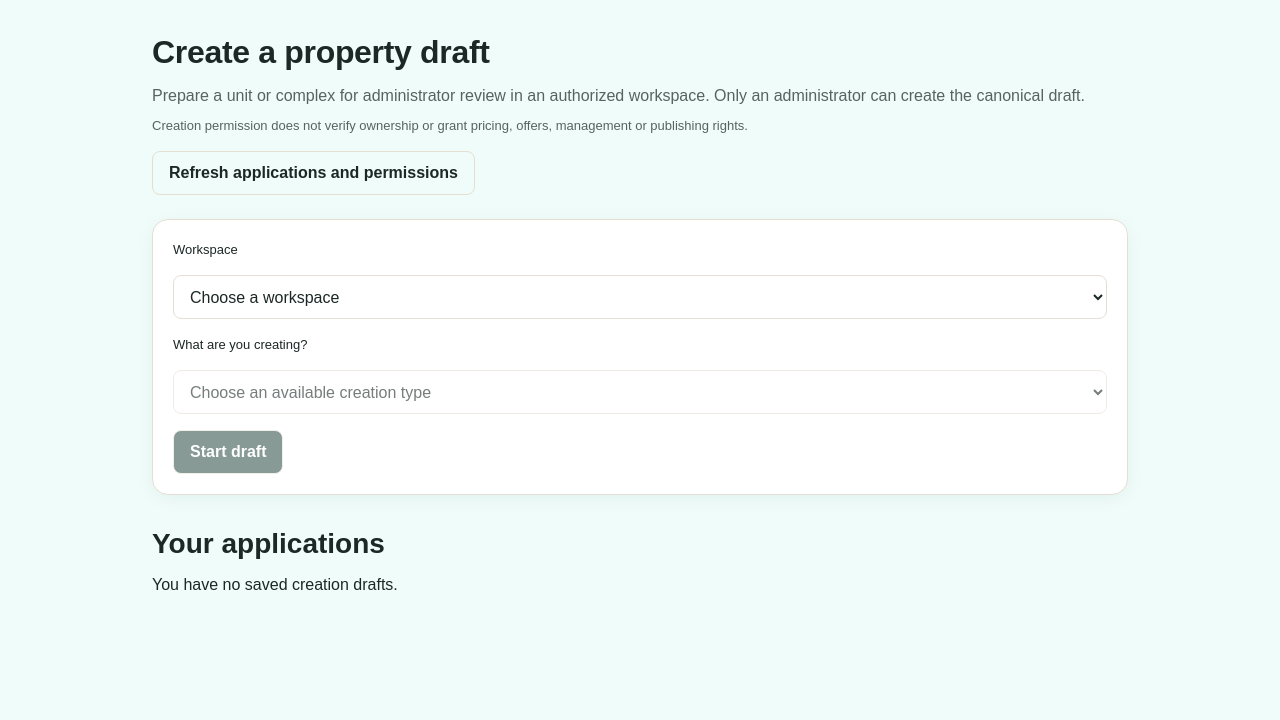
Test: employee creation editor › recovers an ambiguous initial save by exact request receipt without posting again
Select "Employee workspace" in the dropdown labelled "Workspace": (640, 297) x1=173 y1=275 x2=1107 y2=319
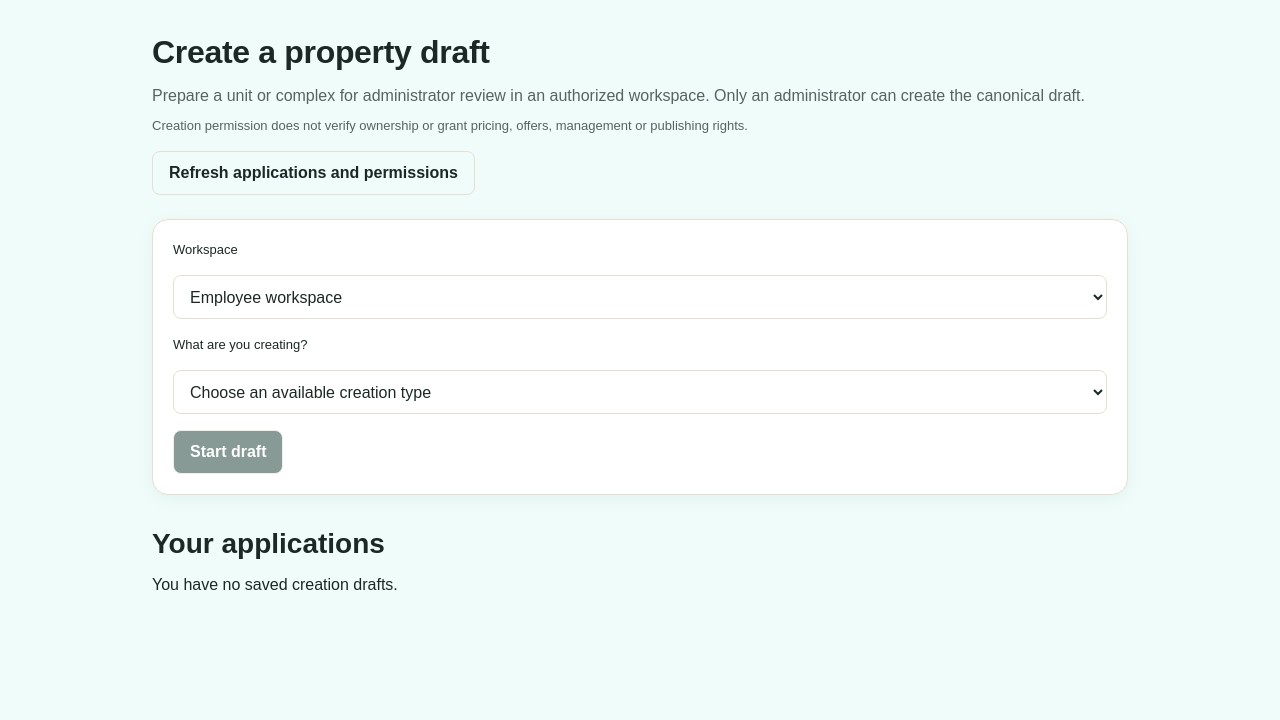
Select "Unit" in the dropdown labelled "What are you creating?": (640, 392) x1=173 y1=370 x2=1107 y2=414
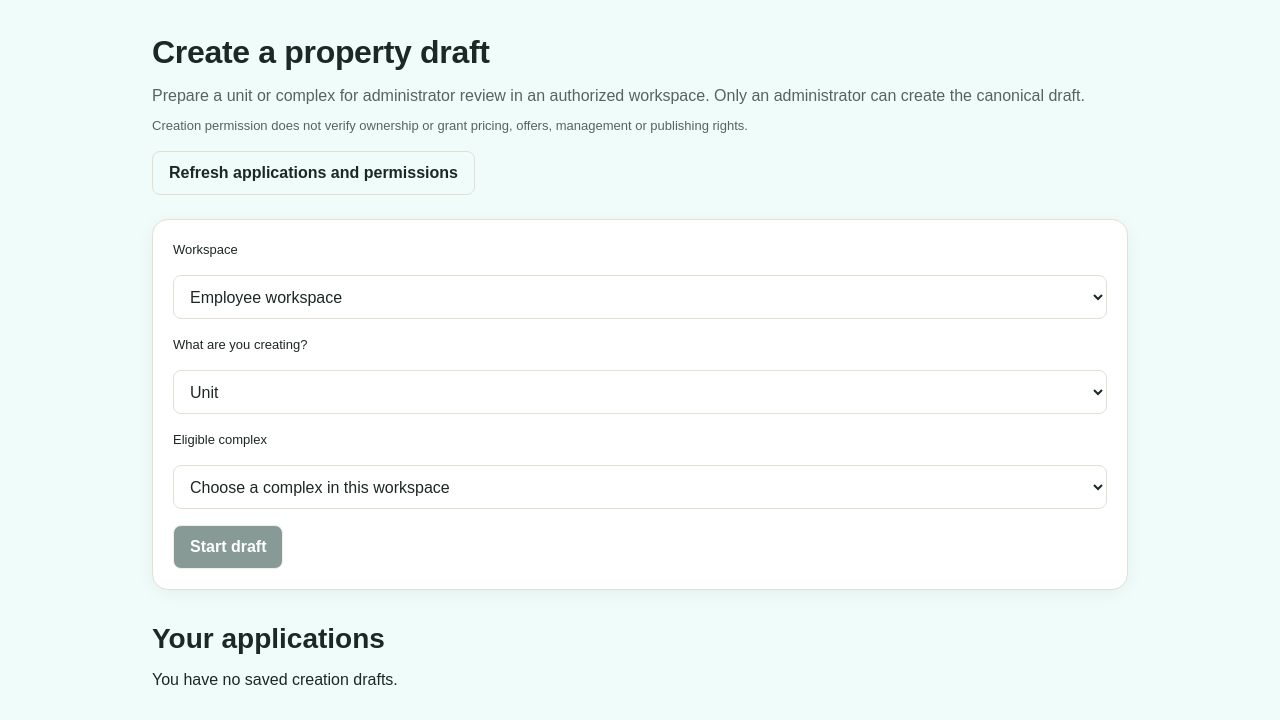
Select "Authorized complex" in the dropdown labelled "Eligible complex": (640, 487) x1=173 y1=465 x2=1107 y2=509
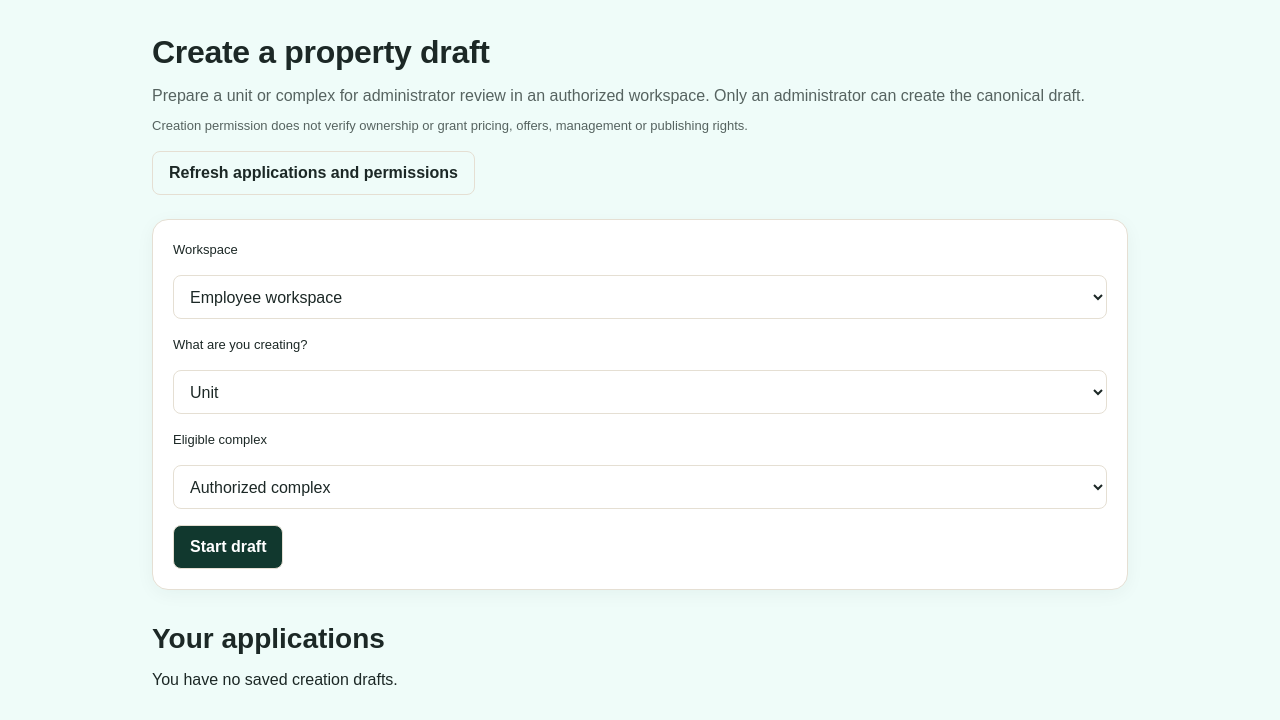
Click the button "Start draft": (228, 547) x1=173 y1=525 x2=284 y2=569
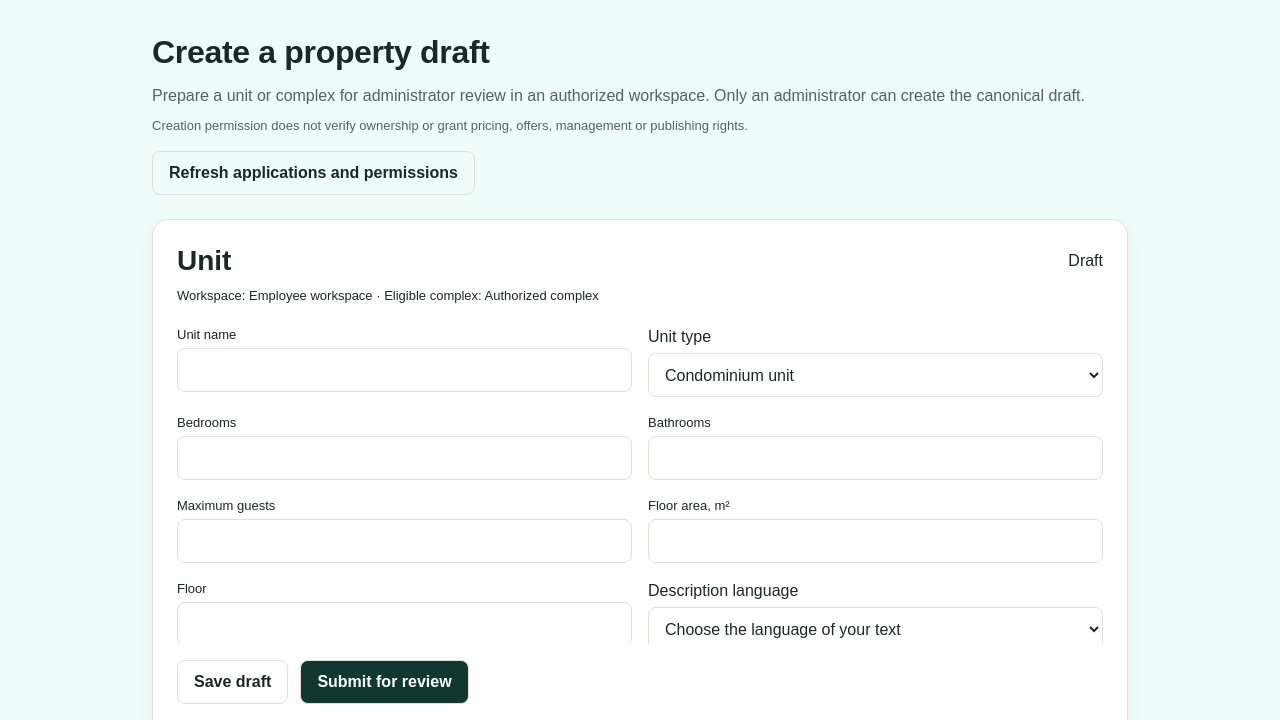
Now the field labelled "Unit name" is shown
In the field labelled "Unit name": (404, 370) x1=177 y1=348 x2=632 y2=392, type "A101"
Click the button "Save draft": (233, 682) x1=177 y1=660 x2=288 y2=704
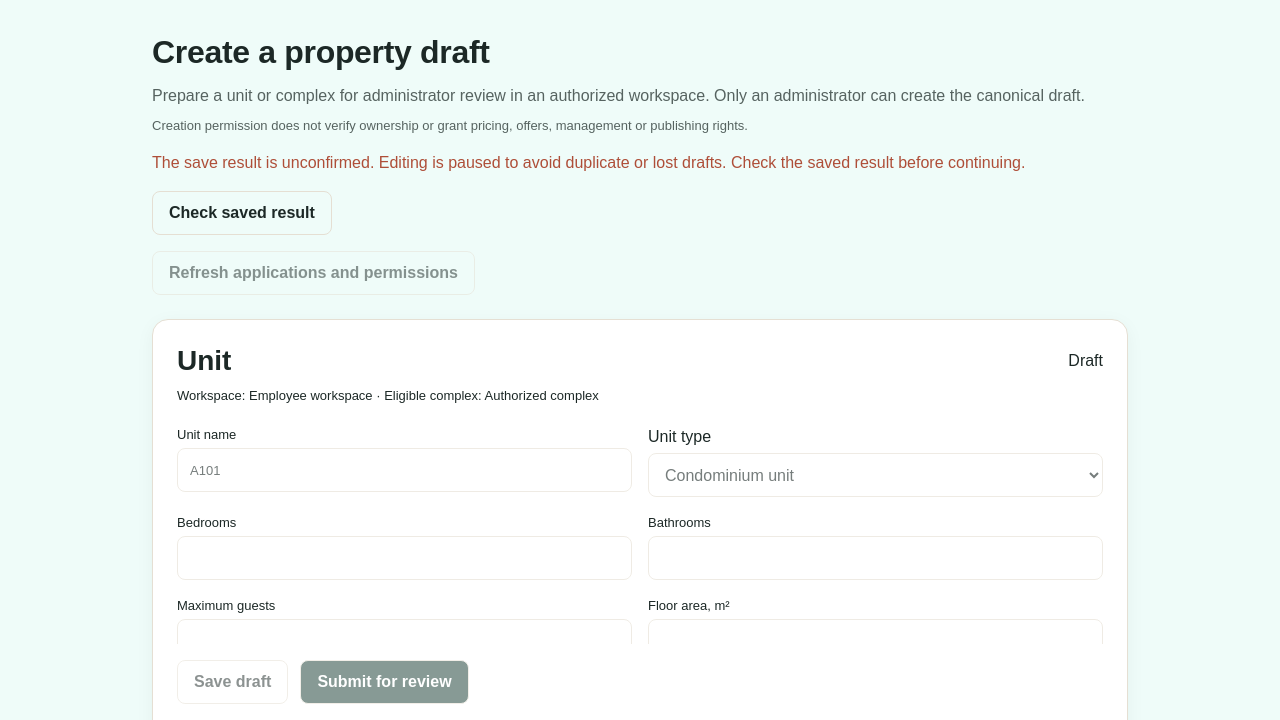
Now the field labelled "Unit name" is disabled, box x1=177 y1=448 x2=632 y2=492
Now the text "The save result is unconfirmed. Editing is paused to avoid duplicate or lost drafts. Check the saved result before conti" is shown, box x1=152 y1=154 x2=1025 y2=171
Now the button "Refresh applications and permissions" is disabled, box x1=152 y1=251 x2=475 y2=295
Click the button "Check saved result": (242, 213) x1=152 y1=191 x2=332 y2=235
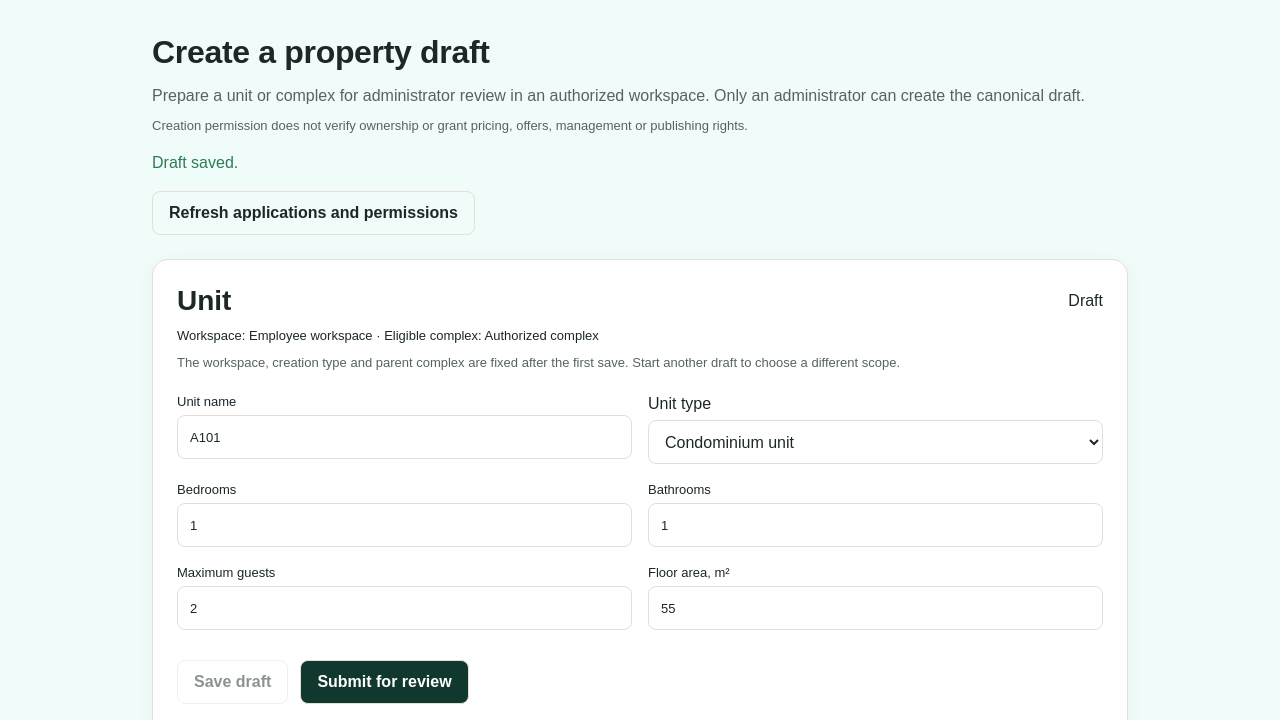
Now the field labelled "Unit name" is enabled, box x1=177 y1=415 x2=632 y2=459
Now the text "Draft saved." is shown, box x1=152 y1=154 x2=238 y2=171
